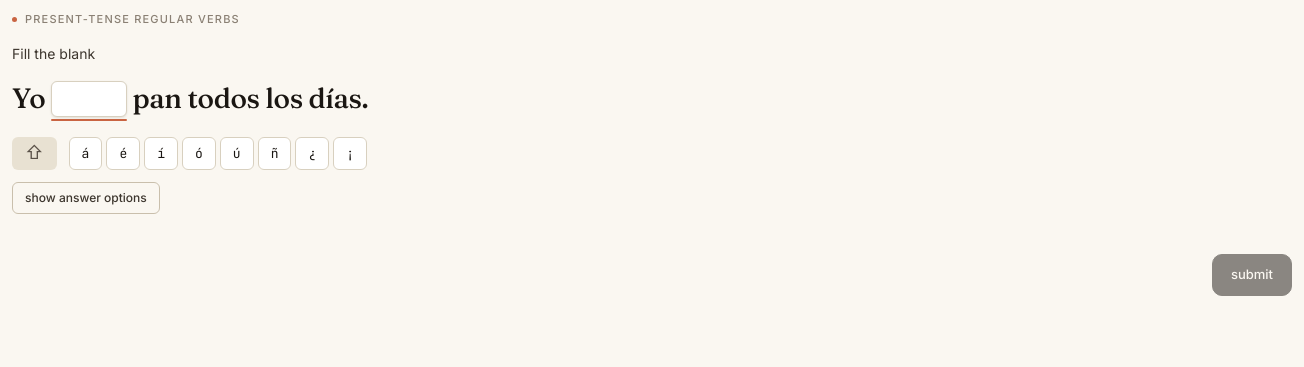
it: ClozeExercise › options scaffold › reveals option chips when "show answer options" is clicked
This screenshot has width=1304, height=367.
expect the button "comes" is not shown: met
Click the button "show answer options" at (86, 198), box [12,182,160,214]
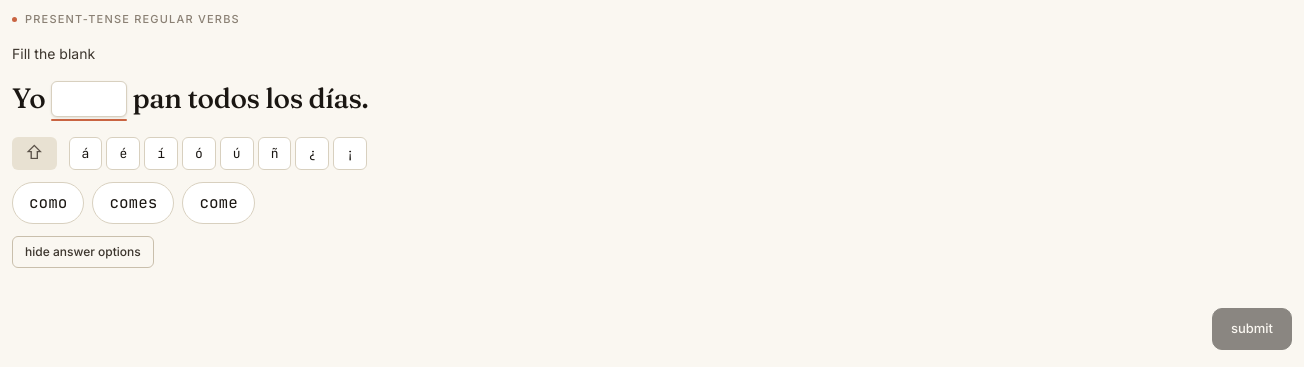
expect the button "comes" is shown: met, box [92,182,174,224]
